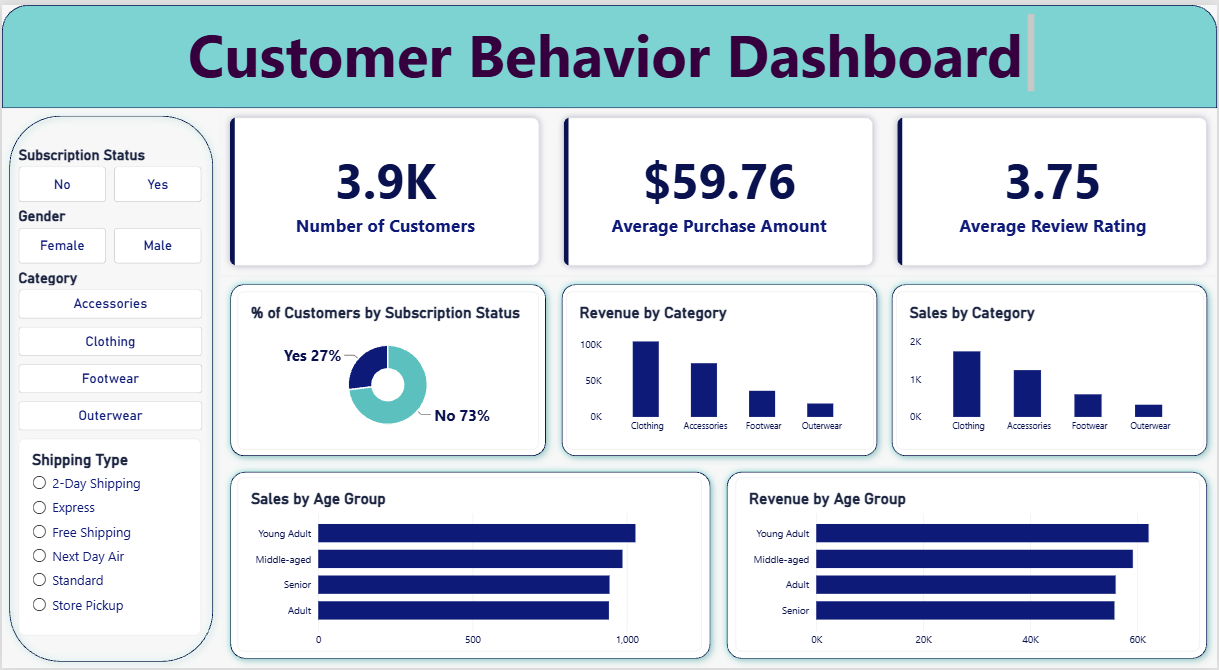

The page's visual inventory and layout, read from the dashboard file:
{"tool":"powerbi","page":{"name":"Page 1","canvas":[1500,820],"ordinal":0},"visuals":[{"type":"cardVisual","fields":{"Data":["public customer.Number of Customers","public customer.Average Purchase Amount","public customer.Average Review Rating"]},"box":[270,127.5,1230,205],"z":0},{"type":"shape","box":[270,332.5,412.5,235],"z":1000},{"type":"donutChart","title":"% of Customers by Subscription Status","fields":{"Category":["public customer.subscription_status"],"Y":["CountNonNull(public customer.customer_id)"]},"box":[290,353.3,371.7,195],"z":2000},{"type":"shape","box":[0,0,1500,127.5],"z":3000},{"type":"textbox","box":[228.9,11.1,1044.4,104.4],"z":4000},{"type":"shape","box":[678.8,332.5,412.5,235],"z":5000},{"type":"shape","box":[1087.5,332.5,412.5,235],"z":6000},{"type":"clusteredColumnChart","title":"Revenue by Category","fields":{"Category":["public customer.category"],"Y":["Sum(public customer.purchase_amount_(usd))"]},"box":[695.6,353.1,379.7,195.2],"z":7000},{"type":"clusteredColumnChart","title":"Sales by Category","fields":{"Category":["public customer.category"],"Y":["CountNonNull(public customer.customer_id)"]},"box":[1103.7,353.1,379.7,195.2],"z":8000},{"type":"shape","box":[0,127.8,269.7,692],"z":9000},{"type":"advancedSlicerVisual","title":"Subscription Status","fields":{"Values":["public customer.subscription_status"]},"box":[19.5,173.9,227.1,69.2],"z":10000},{"type":"advancedSlicerVisual","title":"Gender","fields":{"Values":["public customer.gender"]},"box":[19.5,250.2,227.1,69.2],"z":11000},{"type":"advancedSlicerVisual","title":"Category","fields":{"Values":["public customer.category"]},"box":[21.3,326.5,227.1,200.5],"z":12000},{"type":"listSlicer","title":"Shipping Type","fields":{"Values":["public customer.shipping_type"]},"box":[21.3,535.9,225.4,243.1],"z":13000},{"type":"shape","box":[269.7,564.3,615.7,253.7],"z":14000},{"type":"shape","box":[883.7,564.3,615.7,253.7],"z":15000},{"type":"clusteredBarChart","title":"Revenue by Age Group","fields":{"Category":["public customer.age_group"],"Y":["Sum(public customer.purchase_amount_(usd))"]},"box":[905,583.8,573.2,214.7],"z":16000},{"type":"clusteredBarChart","title":"Sales by Age Group","fields":{"Category":["public customer.age_group"],"Y":["CountNonNull(public customer.customer_id)"]},"box":[291,583.8,573.2,214.7],"z":17000}]}

Visuals, with their boxes in screenshot pixels (x1, y1, x2, y2), scaled from the page's 1500x820 canvas onto the 1219x670 screenshot:
cardVisual - public customer.Number of Customers x public customer.Average Purchase Amount: 219 104 1218 272
shape: 219 272 555 464
"% of Customers by Subscription Status" donutChart: 236 289 538 448
shape: 0 0 1218 104
textbox: 186 9 1035 94
shape: 552 272 887 464
shape: 884 272 1218 464
"Revenue by Category" clusteredColumnChart: 565 289 874 448
"Sales by Category" clusteredColumnChart: 897 289 1206 448
shape: 0 104 219 669
"Subscription Status" advancedSlicerVisual: 16 142 200 199
"Gender" advancedSlicerVisual: 16 204 200 261
"Category" advancedSlicerVisual: 17 267 202 431
"Shipping Type" listSlicer: 17 438 200 636
shape: 219 461 720 668
shape: 718 461 1218 668
"Revenue by Age Group" clusteredBarChart: 735 477 1201 652
"Sales by Age Group" clusteredBarChart: 236 477 702 652
